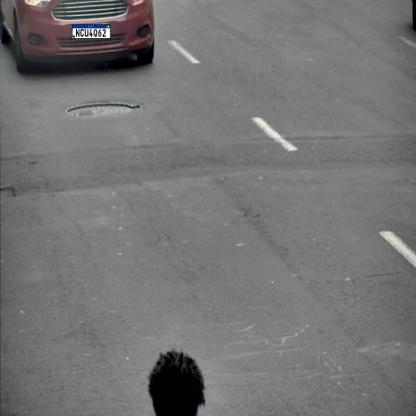PlacaM: (72, 24, 111, 39)
